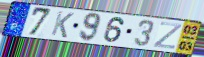3: (133, 19, 156, 48)
6: (103, 17, 125, 44)
7: (27, 6, 52, 37)
9: (77, 12, 102, 44)
K: (50, 10, 76, 39)
Z: (152, 21, 184, 51)
